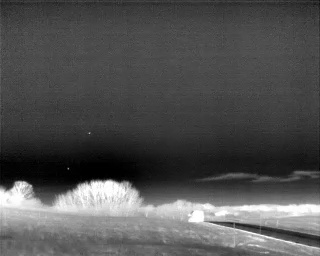BIRD: (86, 130, 93, 137)
